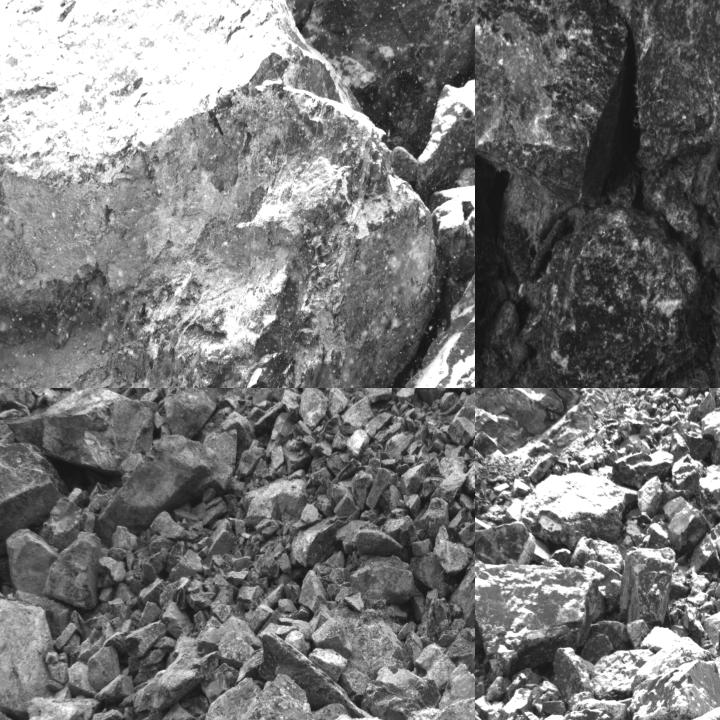stone: (0, 0, 439, 387), (505, 205, 702, 387), (475, 0, 626, 205), (598, 0, 719, 172), (396, 192, 474, 387), (475, 561, 601, 674), (9, 388, 160, 472), (95, 435, 213, 536), (236, 636, 369, 716), (312, 603, 416, 701), (0, 440, 68, 570), (500, 172, 574, 286), (628, 636, 719, 719), (526, 473, 634, 540), (415, 78, 474, 197), (132, 637, 219, 713), (0, 597, 55, 714), (621, 543, 675, 628), (429, 181, 474, 282), (43, 531, 101, 608), (222, 673, 317, 719), (475, 503, 534, 574), (361, 667, 441, 719), (290, 510, 358, 568), (6, 530, 62, 595), (242, 475, 308, 524), (164, 388, 226, 439), (592, 650, 656, 697), (350, 557, 412, 604), (610, 448, 674, 488), (410, 550, 458, 600), (668, 501, 711, 555), (41, 496, 82, 550), (204, 428, 236, 495), (136, 691, 208, 719), (554, 648, 591, 700), (313, 551, 350, 601), (124, 620, 168, 660), (688, 520, 719, 576), (88, 646, 126, 688), (308, 647, 349, 684), (218, 632, 257, 668), (431, 470, 469, 505), (366, 468, 398, 509), (415, 498, 449, 536), (435, 540, 474, 573), (299, 388, 328, 431), (412, 388, 474, 408), (299, 570, 326, 615), (699, 463, 719, 523), (171, 548, 204, 581), (400, 461, 430, 497), (382, 514, 416, 545), (638, 476, 662, 519), (160, 577, 190, 611), (341, 399, 374, 428), (352, 471, 374, 511), (0, 408, 23, 445), (346, 428, 369, 462), (448, 416, 474, 446), (379, 485, 401, 516), (352, 388, 397, 403), (554, 709, 621, 719), (437, 455, 466, 478), (327, 388, 350, 417), (395, 388, 415, 405), (465, 459, 474, 494)
